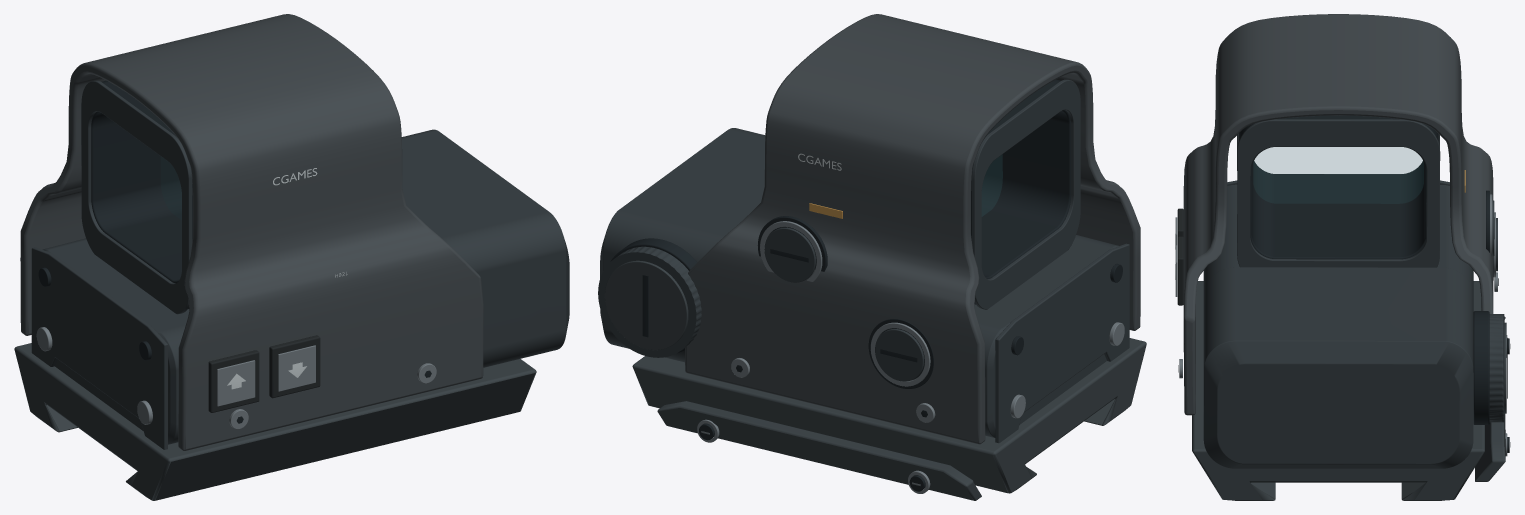
Rendered from H02L_Holo_Long_A5_Rail.glb.
The picture shows the model from 3 angles, left to right: view 1: azimuth 30°, elevation 25°; view 2: azimuth 150°, elevation 25°; view 3: azimuth 270°, elevation 25°; orthographic projection. The views are drawn at different scales.
Parts seen in each view (by area): view 1: 01 open protective U hood, 02 rounded forward casing, 04 undercut adapter bridge, 02 rear visible face plate, 03 inner window structural frame, 03 window rim rear, 05 left button face.001, 05 left button gasket.001, 05 left button gasket, 05 left button face, 03 transparent visual pane; view 2: 01 open protective U hood, 04 undercut adapter bridge, 02 rounded forward casing, 02 rear visible face plate, 03 inner window structural frame, 04 independent right side strip, 03 window rim rear, 05 front cap center, 05 front cap fine grip, 05 right inset disk, 05 right inset disk.001, 05 right satin disk edge.001 (+5 smaller); view 3: 02 rounded forward casing, 01 open protective U hood, 03 inner window structural frame, 03 window rim front, 03 transparent visual pane, 04 undercut adapter bridge, 05 front side cap seat, 05 front cap fine grip, 04 independent right side strip, 05 left button gasket.
Part boxes in pixels (box(x1,y1,x2,y2)): 01 open protective U hood: box(20, 14, 483, 450); 02 rounded forward casing: box(42, 129, 569, 444); 04 undercut adapter bridge: box(14, 343, 536, 500); 02 rear visible face plate: box(31, 247, 167, 449); 03 inner window structural frame: box(91, 80, 192, 308); 03 window rim rear: box(81, 80, 192, 314); 05 left button face.001: box(217, 360, 255, 406); 05 left button gasket.001: box(208, 350, 259, 412); 05 left button gasket: box(269, 335, 320, 398); 05 left button face: box(278, 345, 315, 391); 03 transparent visual pane: box(161, 157, 181, 219); 01 open protective U hood: box(685, 14, 1140, 444); 04 undercut adapter bridge: box(632, 338, 1146, 493); 02 rounded forward casing: box(600, 128, 1118, 437); 02 rear visible face plate: box(995, 243, 1129, 443); 03 inner window structural frame: box(971, 79, 1071, 304); 04 independent right side strip: box(657, 401, 981, 500); 03 window rim rear: box(971, 79, 1080, 309); 05 front cap center: box(604, 260, 688, 350); 05 front cap fine grip: box(598, 246, 701, 357); 05 right inset disk: box(764, 227, 815, 282); 05 right inset disk.001: box(875, 329, 924, 381); 05 right satin disk edge.001: box(870, 322, 930, 386); 02 rounded forward casing: box(1203, 184, 1473, 468); 01 open protective U hood: box(1183, 14, 1493, 415); 03 inner window structural frame: box(1239, 115, 1438, 259); 03 window rim front: box(1237, 119, 1440, 267); 03 transparent visual pane: box(1253, 147, 1423, 203); 04 undercut adapter bridge: box(1192, 281, 1484, 500); 05 front side cap seat: box(1473, 311, 1489, 424); 05 front cap fine grip: box(1489, 314, 1504, 422); 04 independent right side strip: box(1475, 316, 1505, 481); 05 left button gasket: box(1177, 236, 1183, 305).
Size of the model in its own units: 0.0983 by 0.0813 by 0.0731.
